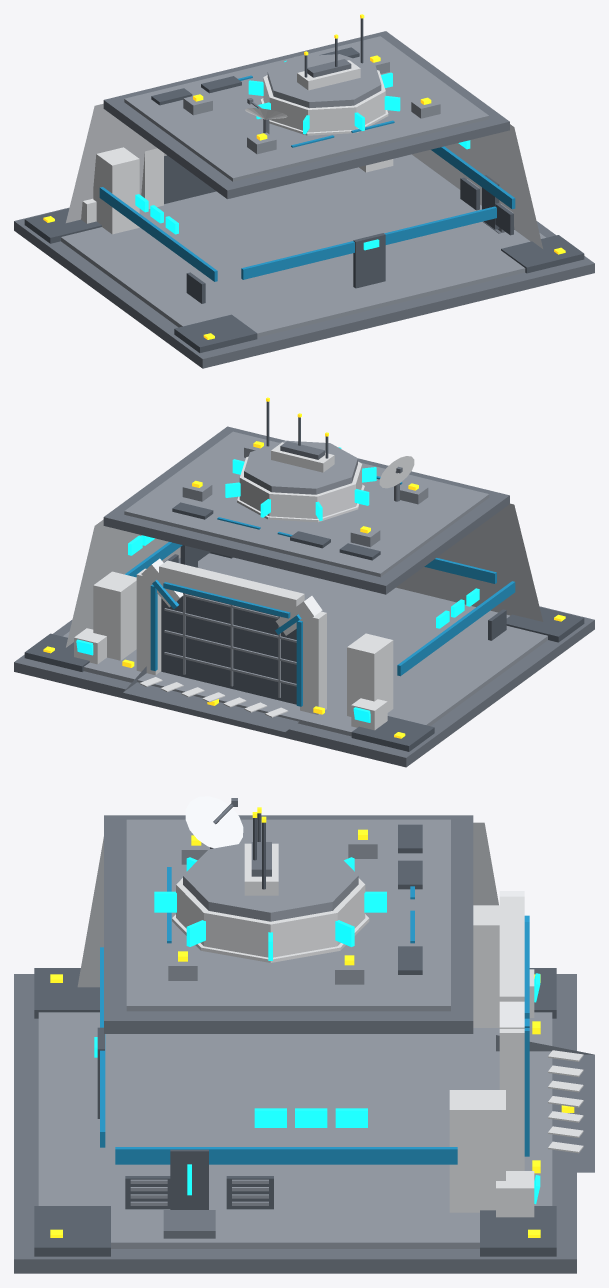
Rendered from kenney_style_command_center.glb.
The picture shows the model from 3 angles, top to bottom: view 1: azimuth 30°, elevation 25°; view 2: azimuth 150°, elevation 25°; view 3: azimuth 270°, elevation 25°; orthographic projection. The views are drawn at different scales.
Visible parts, largest first — view 1: foundation_inset, roof_inner, foundation, roof_plate, main_hull, bridge_roof, front_buttress_-1, rear_blue_stripe, bridge_body, corner_pad_-1_1, corner_pad_1_1, left_blue_stripe (+9 smaller); view 2: foundation_inset, roof_inner, main_hull, hangar_door, roof_plate, foundation, bridge_roof, front_buttress_1, door_frame_top, front_buttress_-1, bridge_body, door_frame_left (+19 smaller); view 3: foundation_inset, roof_inner, foundation, roof_plate, bridge_roof, bridge_body, front_buttress_1, right_blue_stripe, front_ramp, corner_pad_1_1, main_hull, corner_pad_1_-1 (+25 smaller).
Part boxes in pixels (x1=…): foundation_inset: x1=61, y1=154, x2=545, y2=337; roof_inner: x1=124, y1=36, x2=489, y2=181; foundation: x1=14, y1=207, x2=594, y2=368; roof_plate: x1=103, y1=31, x2=509, y2=199; main_hull: x1=66, y1=103, x2=542, y2=248; bridge_roof: x1=267, y1=54, x2=381, y2=108; front_buttress_-1: x1=93, y1=147, x2=139, y2=234; rear_blue_stripe: x1=241, y1=206, x2=496, y2=279; bridge_body: x1=263, y1=70, x2=385, y2=132; corner_pad_-1_1: x1=174, y1=314, x2=257, y2=352; corner_pad_1_1: x1=501, y1=235, x2=584, y2=273; left_blue_stripe: x1=99, y1=187, x2=217, y2=281; foundation_inset: x1=63, y1=553, x2=547, y2=736; roof_inner: x1=124, y1=431, x2=489, y2=577; main_hull: x1=66, y1=503, x2=543, y2=647; hangar_door: x1=161, y1=593, x2=296, y2=704; roof_plate: x1=103, y1=426, x2=509, y2=594; foundation: x1=14, y1=606, x2=594, y2=767; bridge_roof: x1=244, y1=440, x2=357, y2=494; front_buttress_1: x1=93, y1=571, x2=136, y2=660; door_frame_top: x1=159, y1=560, x2=304, y2=615; front_buttress_-1: x1=347, y1=633, x2=393, y2=716; bridge_body: x1=239, y1=456, x2=362, y2=518; door_frame_left: x1=300, y1=611, x2=326, y2=714; foundation_inset: x1=38, y1=1012, x2=552, y2=1248; roof_inner: x1=126, y1=819, x2=450, y2=1011; foundation: x1=14, y1=974, x2=576, y2=1273; roof_plate: x1=104, y1=815, x2=473, y2=1033; bridge_roof: x1=183, y1=838, x2=358, y2=921; bridge_body: x1=176, y1=878, x2=365, y2=957; front_buttress_1: x1=449, y1=1090, x2=505, y2=1212; right_blue_stripe: x1=115, y1=1147, x2=457, y2=1164; front_ramp: x1=496, y1=1035, x2=594, y2=1172; corner_pad_1_1: x1=34, y1=1206, x2=110, y2=1256; main_hull: x1=77, y1=822, x2=498, y2=987; corner_pad_1_-1: x1=480, y1=1206, x2=556, y2=1256.
Bounding box in the file's own units: 15 × 8.52 × 12.9.
